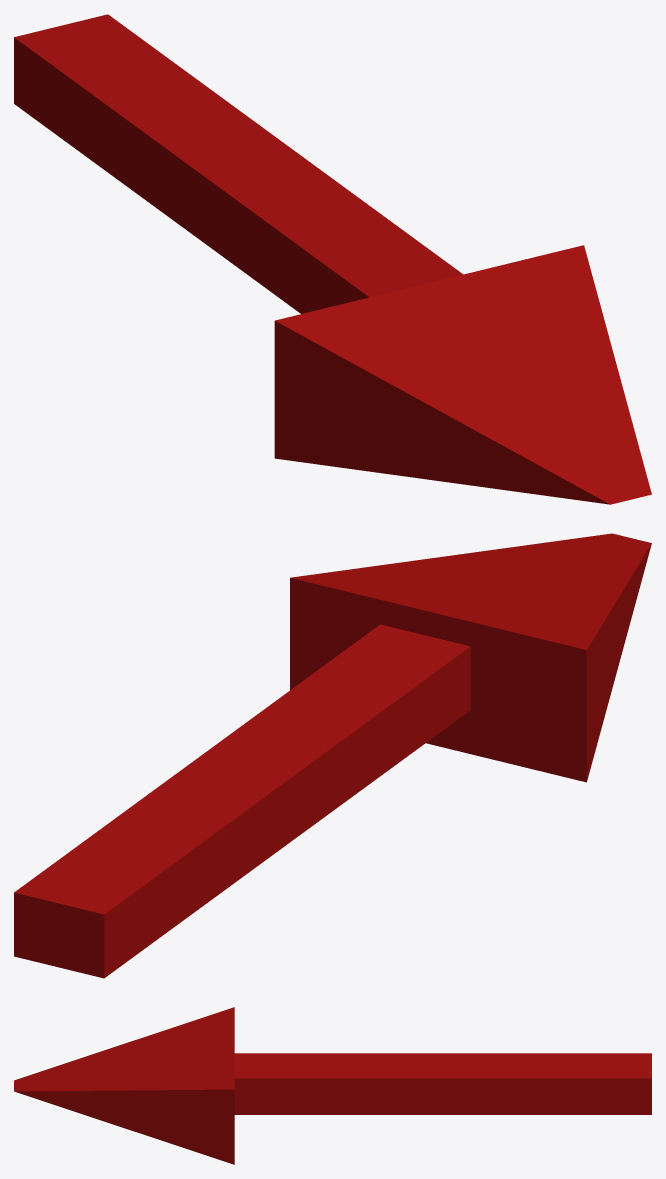
Rendered from arrow3.fbx.
3 views of the same model, one above another, from view 1: azimuth 30°, elevation 25°; view 2: azimuth 150°, elevation 25°; view 3: azimuth 270°, elevation 25° (orthographic). The views are drawn at different scales.
Parts seen in each view (by area): view 1: Cube.001; view 2: Cube.001; view 3: Cube.001.
Boxes of the visible parts, box(x1,y1,x2,y2) form: Cube.001: box(14, 14, 651, 504); Cube.001: box(14, 533, 651, 978); Cube.001: box(14, 1007, 651, 1164).
Bounding box in the file's own units: 187 × 79.72 × 612.
